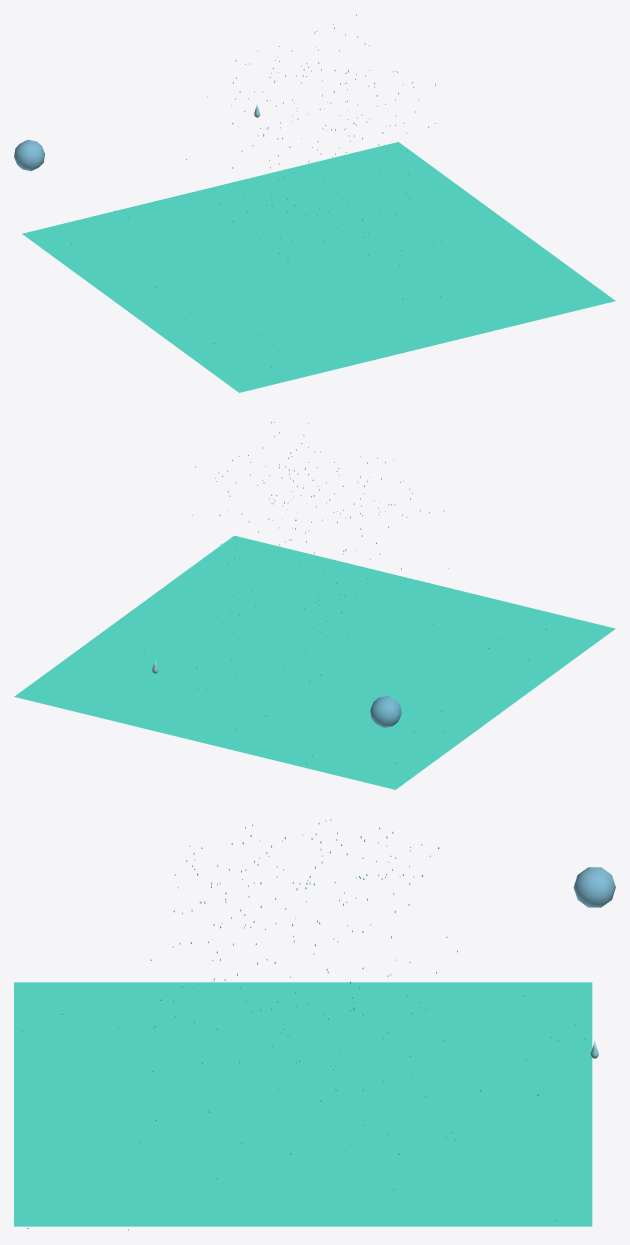
File: ELE3.glb
The picture shows the model from 3 angles, top to bottom: view 1: azimuth 30°, elevation 25°; view 2: azimuth 150°, elevation 25°; view 3: azimuth 270°, elevation 25°; orthographic projection. The views are drawn at different scales.
Visible parts, largest first — view 1: Plane, Icosphere.001; view 2: Plane, Icosphere.001; view 3: Plane, Icosphere.001.
Part boxes in pixels (x1,y1,x2,y2): Plane: (22, 142, 615, 392); Icosphere.001: (14, 140, 44, 171); Plane: (14, 535, 615, 789); Icosphere.001: (370, 696, 401, 727); Plane: (14, 982, 592, 1226); Icosphere.001: (573, 867, 615, 907).
Size of the model in its own units: 27.6 by 14.89 by 28.39.
